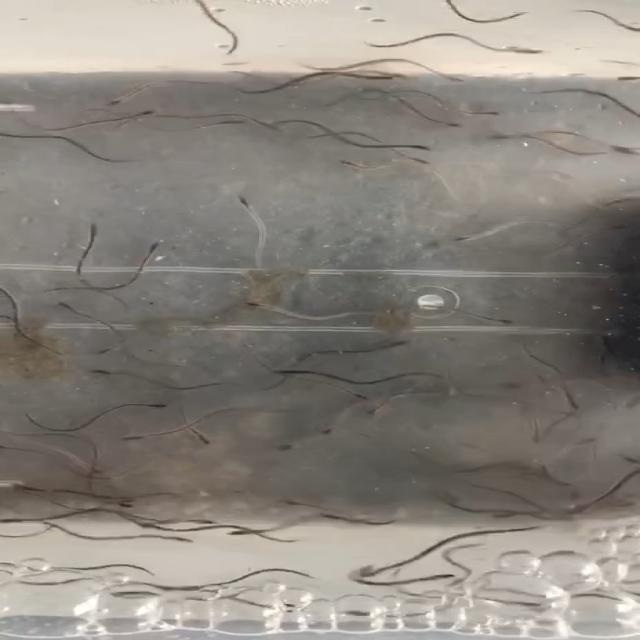active_glass_eel: (492, 42, 554, 57), (165, 510, 222, 526), (449, 230, 495, 245), (560, 503, 600, 520), (112, 430, 160, 444), (156, 533, 198, 549), (336, 158, 380, 172), (189, 428, 219, 448), (520, 426, 550, 446), (262, 364, 308, 377), (426, 118, 464, 133), (349, 71, 396, 83), (482, 131, 533, 142), (138, 240, 166, 260), (85, 218, 108, 242), (225, 528, 271, 540), (360, 403, 394, 419), (274, 439, 308, 455), (568, 436, 602, 452), (101, 498, 149, 509), (73, 455, 102, 473), (198, 119, 255, 128), (608, 144, 640, 160), (310, 425, 343, 440), (131, 401, 169, 414), (244, 300, 285, 312), (461, 108, 505, 119), (234, 194, 256, 216), (116, 109, 156, 121), (55, 299, 83, 314), (255, 122, 283, 136), (85, 346, 124, 356), (401, 144, 433, 156), (440, 71, 467, 85), (346, 387, 371, 402), (486, 317, 520, 328), (100, 96, 130, 108), (88, 368, 124, 378), (568, 392, 584, 414), (615, 70, 640, 84), (224, 44, 241, 56)
